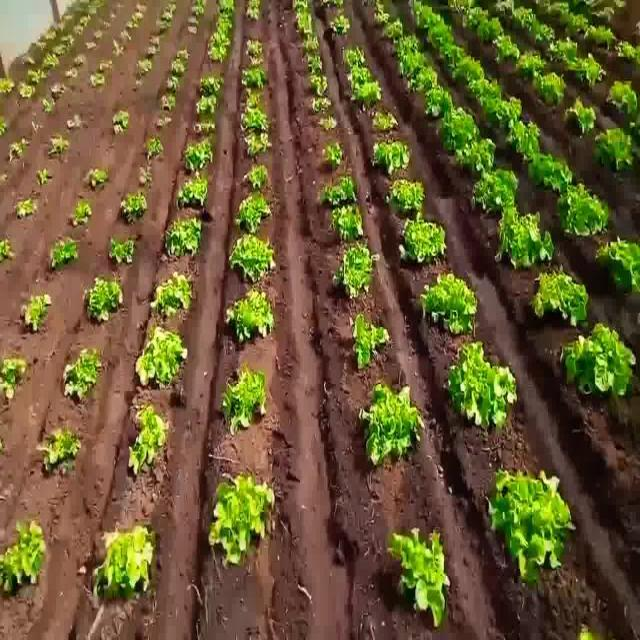Lettuce: (490, 467, 574, 586), (203, 471, 276, 566), (560, 320, 638, 404), (444, 339, 516, 429), (360, 379, 427, 468), (393, 526, 452, 626), (90, 521, 158, 599), (492, 207, 555, 271), (419, 272, 480, 338), (528, 266, 592, 328), (123, 401, 169, 479), (135, 325, 191, 389), (217, 366, 269, 433), (0, 521, 47, 595), (556, 181, 611, 240), (222, 288, 277, 344), (591, 237, 640, 296), (332, 241, 380, 300), (349, 309, 393, 368), (398, 216, 448, 266), (32, 425, 81, 475), (229, 232, 275, 285), (148, 269, 194, 321), (470, 167, 520, 214), (80, 276, 126, 326), (62, 350, 103, 400), (160, 215, 203, 261), (527, 153, 575, 194), (437, 106, 478, 152), (594, 126, 634, 171), (452, 137, 498, 175), (564, 92, 598, 142), (369, 139, 413, 175), (235, 187, 269, 233), (386, 178, 427, 216), (0, 349, 30, 400), (483, 94, 523, 132), (330, 203, 368, 240), (507, 119, 542, 159), (20, 291, 51, 334), (606, 79, 638, 120), (530, 70, 567, 105), (320, 174, 358, 208), (566, 54, 603, 86), (424, 85, 457, 120), (46, 236, 80, 266), (462, 75, 504, 99), (451, 56, 487, 82), (179, 174, 207, 207), (348, 80, 382, 106), (546, 37, 578, 64), (526, 21, 558, 48), (238, 163, 269, 190), (402, 46, 428, 78), (515, 50, 547, 76), (369, 107, 398, 135), (585, 24, 616, 50), (476, 15, 504, 43), (494, 34, 519, 64), (509, 6, 537, 32), (415, 65, 440, 94), (426, 21, 457, 44), (462, 5, 489, 30), (395, 32, 422, 56), (562, 12, 588, 36), (438, 42, 467, 62), (616, 37, 640, 60), (382, 18, 405, 40), (346, 65, 370, 85), (490, 0, 518, 17), (448, 0, 478, 14)
